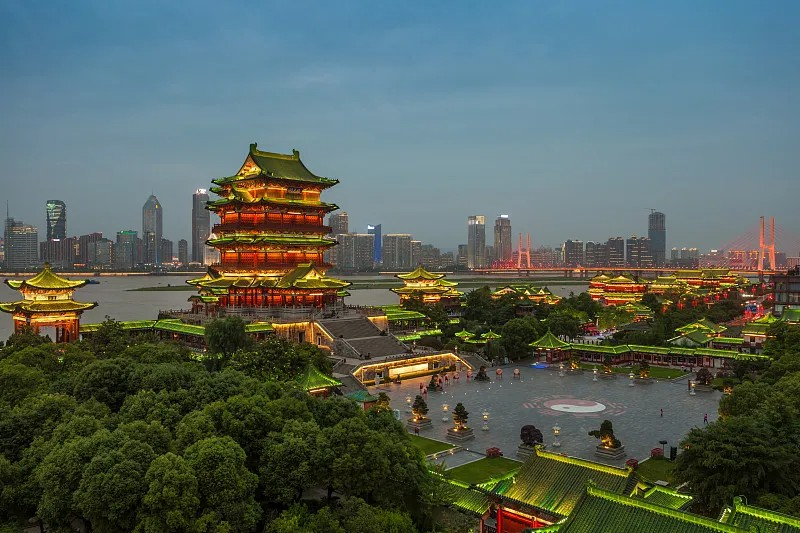Teng: (186, 143, 353, 315)
